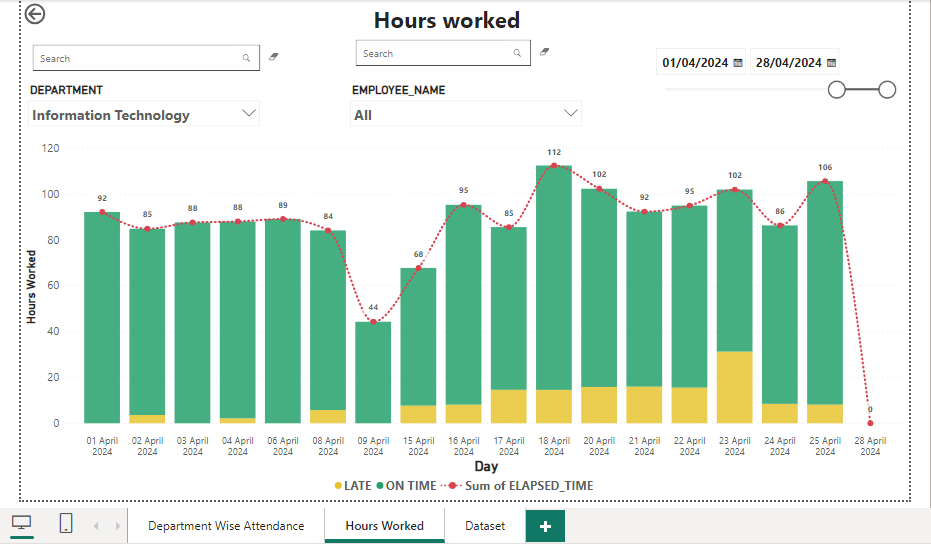

Layout of this report page (visuals, bound fields, positions):
{"tool":"powerbi","page":{"name":"Hours Worked","canvas":[1280,720],"ordinal":1},"visuals":[{"type":"slicer","fields":{"Values":["FCT_ATTENDANCE.DEPARTMENT"]},"box":[0,113.8,354.2,82.1],"z":0},{"type":"slicer","fields":{"Values":["FCT_ATTENDANCE.NAME"]},"box":[493.9,113.8,292.3,82.1],"z":1000},{"type":"lineStackedColumnComboChart","fields":{"Y":["Sum(FCT_ATTENDANCE.ELAPSED_TIME)"],"Series":["FCT_ATTENDANCE.ATTENDANCE"],"Y2":["Sum(FCT_ATTENDANCE.ELAPSED_TIME)"],"Category":["FCT_ATTENDANCE.DATE"]},"box":[0,195.8,1280.2,524.2],"z":2000},{"type":"textbox","box":[354.2,0,518.4,59],"z":3000},{"type":"slicer","fields":{"Values":["FCT_ATTENDANCE.DATE"]},"box":[901.4,59,367.2,110.9],"z":4000},{"type":"actionButton","box":[0,0,100,40],"z":5000},{"type":"textFilter25A4896A83E0487089E2B90C9AE57C8A","fields":{"field":["FCT_ATTENDANCE.NAME"]},"box":[493.9,59,308.2,54.7],"z":6000},{"type":"textFilter25A4896A83E0487089E2B90C9AE57C8A","fields":{"field":["FCT_ATTENDANCE.DEPARTMENT"]},"box":[11.5,59,375.8,56.2],"z":6001}]}

Visuals, with their boxes on the page's 1280x720 design canvas (x1, y1, x2, y2). These are canvas units, not pixel positions in the 931x544 screenshot, which may show the page scaled, cropped or inside an application window:
slicer - FCT_ATTENDANCE.DEPARTMENT: (x1=0, y1=114, x2=354, y2=196)
slicer - FCT_ATTENDANCE.NAME: (x1=494, y1=114, x2=786, y2=196)
lineStackedColumnComboChart - Sum(FCT_ATTENDANCE.ELAPSED_TIME) x FCT_ATTENDANCE.ATTENDANCE: (x1=0, y1=196, x2=1280, y2=720)
textbox: (x1=354, y1=0, x2=873, y2=59)
slicer - FCT_ATTENDANCE.DATE: (x1=901, y1=59, x2=1269, y2=170)
actionButton: (x1=0, y1=0, x2=100, y2=40)
textFilter25A4896A83E0487089E2B90C9AE57C8A - FCT_ATTENDANCE.NAME: (x1=494, y1=59, x2=802, y2=114)
textFilter25A4896A83E0487089E2B90C9AE57C8A - FCT_ATTENDANCE.DEPARTMENT: (x1=12, y1=59, x2=387, y2=115)
